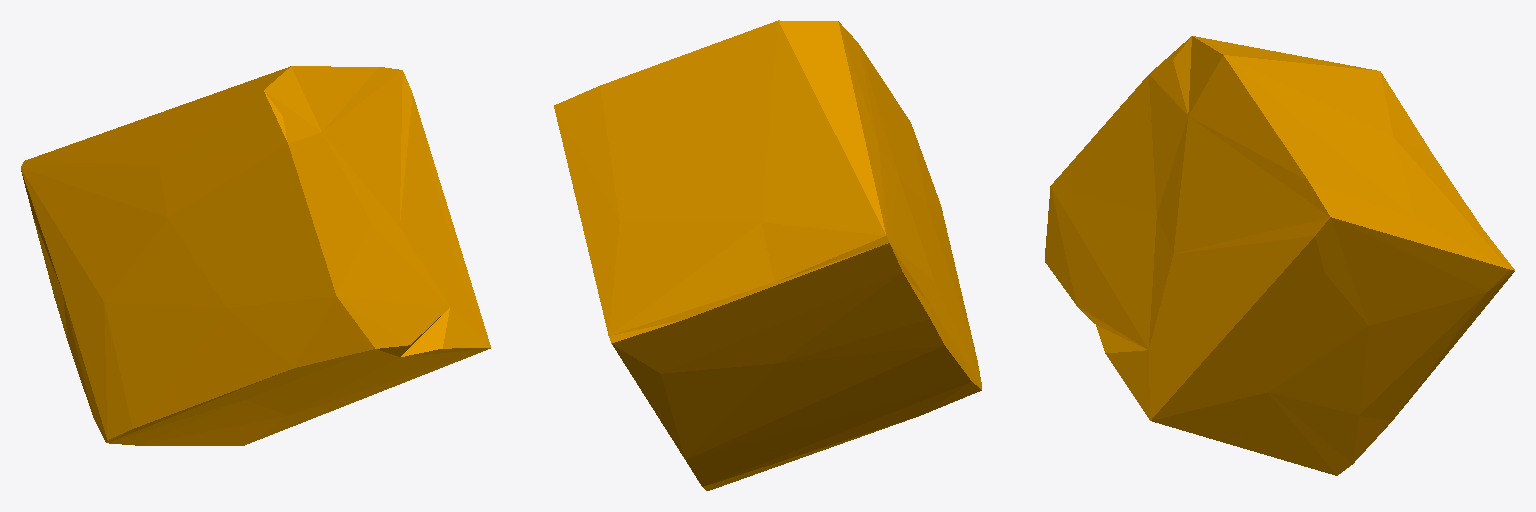
URDF robot description (CoffeeBox_800_tex):
<?xml version="1.0"?>
<robot name="CoffeeBox_800_tex">
  <link name="base_link">
    <contact>
      <lateral_friction value="1.0"/>
      <rolling_friction value="0.0"/>
      <contact_cfm value="0.0"/>
      <contact_erp value="1.0"/>
    </contact>
    <inertial>
      <mass value="0.0153426066554"/>
      <inertia ixx="1" ixy="0" ixz="0" iyy="1" iyz="0" izz="1"/>
    </inertial>
    <visual>
      <geometry>
        <mesh filename="CoffeeBox_800_tex_visual.obj"/>
      </geometry>
    </visual>
    <collision>
      <geometry>
        <mesh filename="CoffeeBox_800_tex_collision.obj"/>
      </geometry>
    </collision>
  </link>
</robot>

--- Render facts (derived) ---
The picture shows the robot from 3 angles, left to right: view 1: azimuth 30°, elevation 25°; view 2: azimuth 150°, elevation 25°; view 3: azimuth 270°, elevation 25°; orthographic projection.
Robot: CoffeeBox_800_tex — 1 links, 0 joints (none); root link base_link; default pose: every joint at zero.
Links seen in each view (by area): view 1: base_link; view 2: base_link; view 3: base_link.
Boxes of the visible links, x1,y1,x2,y2 form: base_link: [21, 66, 490, 445]; base_link: [554, 20, 981, 490]; base_link: [1045, 36, 1514, 475].
Size in the robot's own frame: 0.0391 by 0.0449 by 0.0437 metres.
Meshes: 1 distinct files referenced, 1 mesh visuals loaded (1 OBJ).